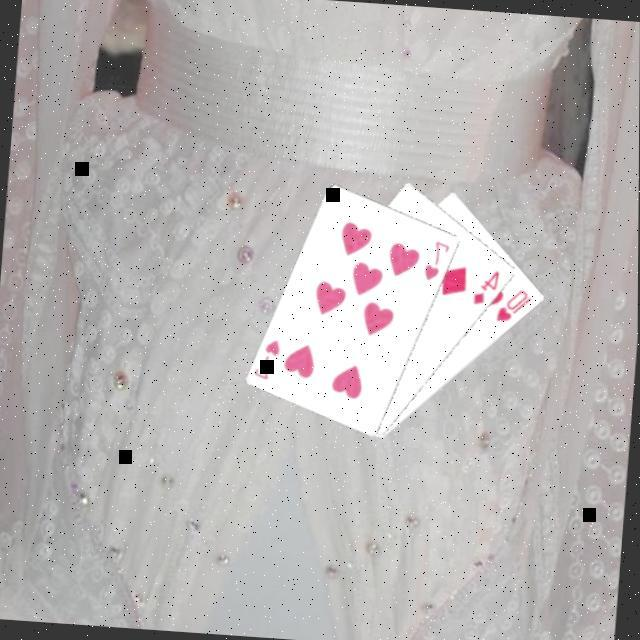10H: (491, 286, 534, 329)
4D: (468, 267, 502, 311)
7H: (249, 337, 283, 385), (419, 238, 452, 287)
